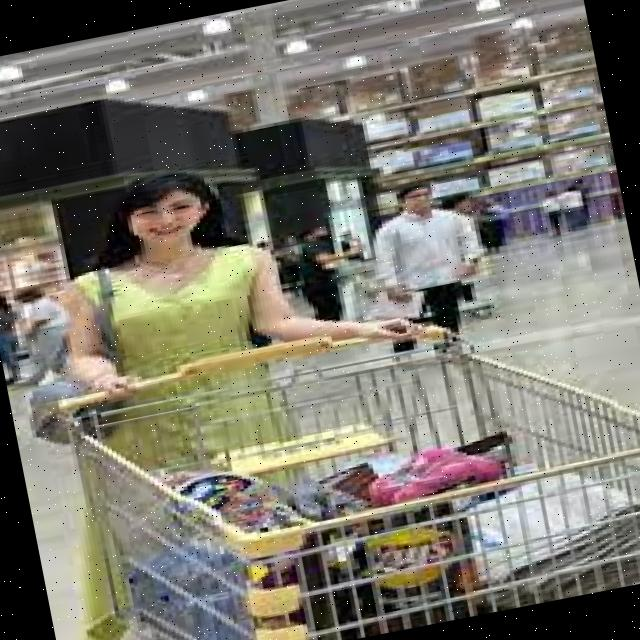Person: (0, 129, 467, 640), (358, 172, 502, 366)
